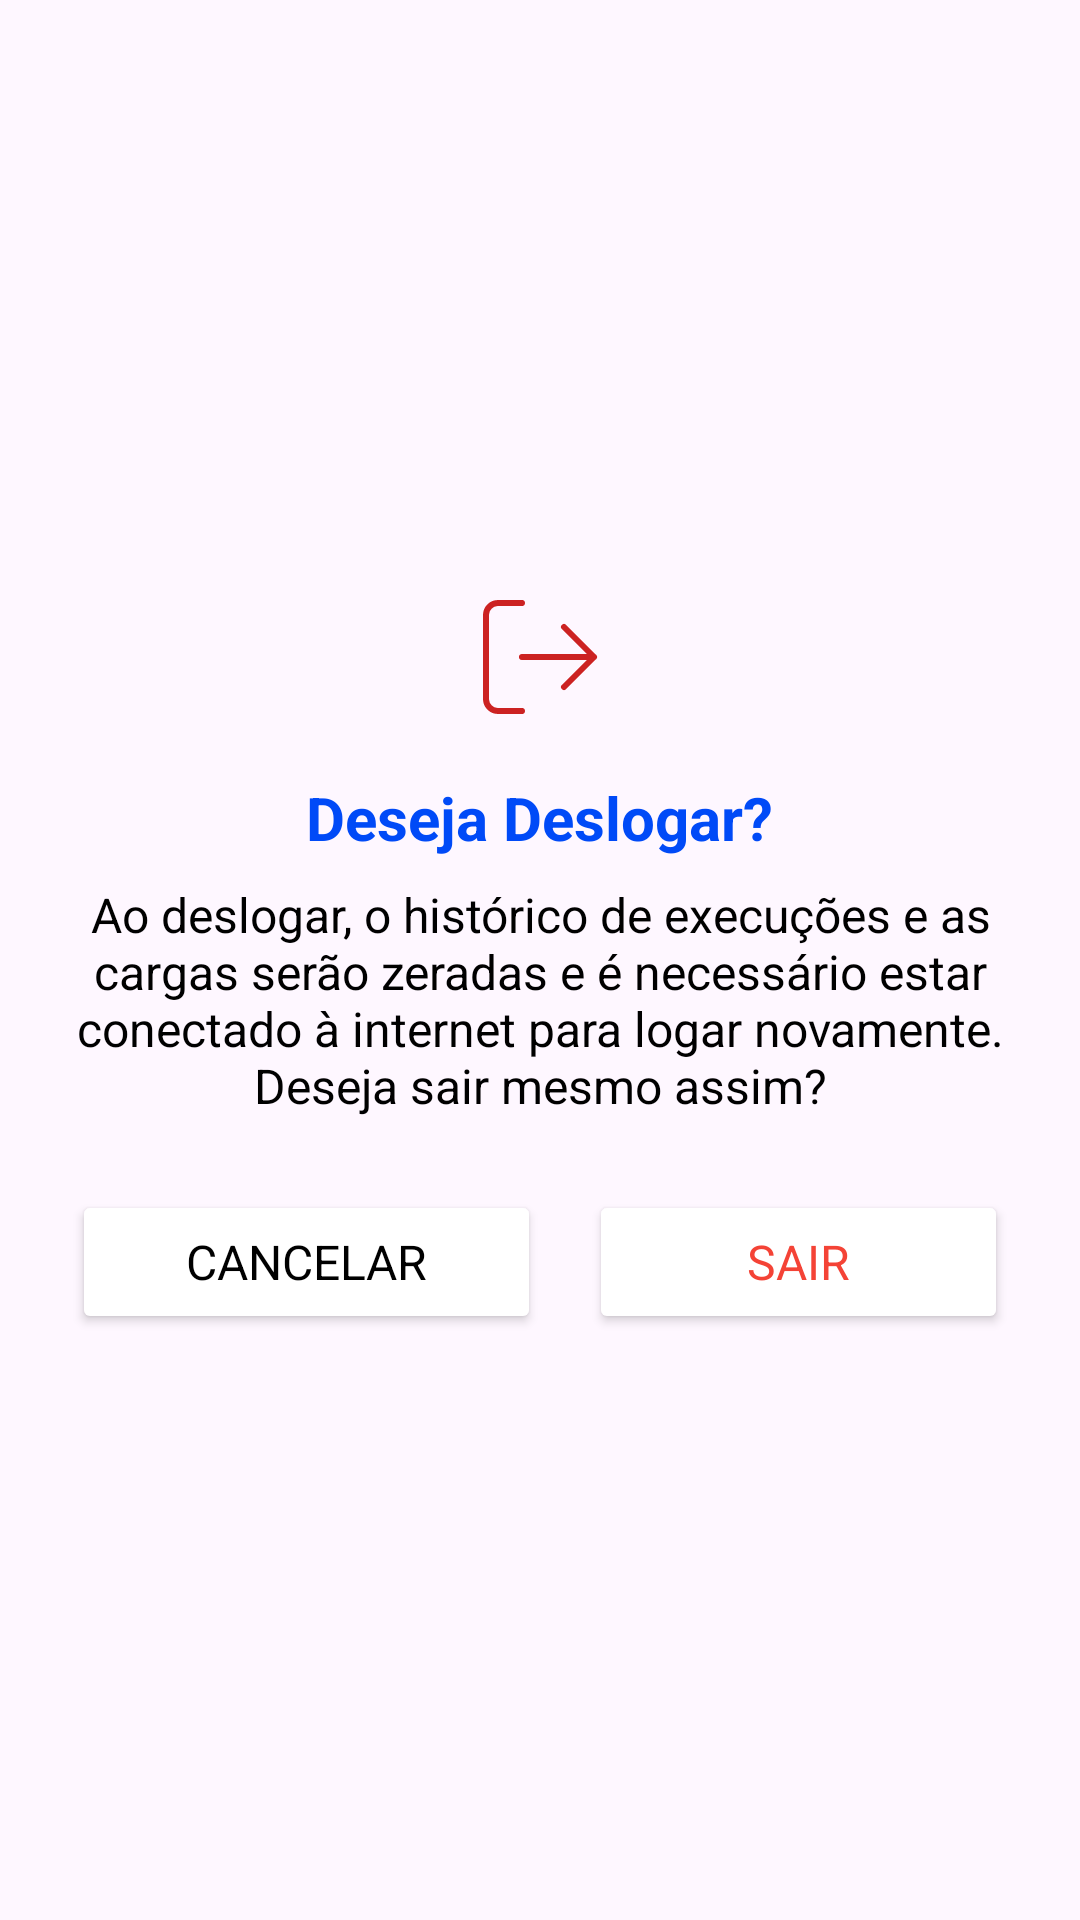

Named icons in this screenshot (1080*1920) and their centers, point (x, y):
log out: point (540, 657)
